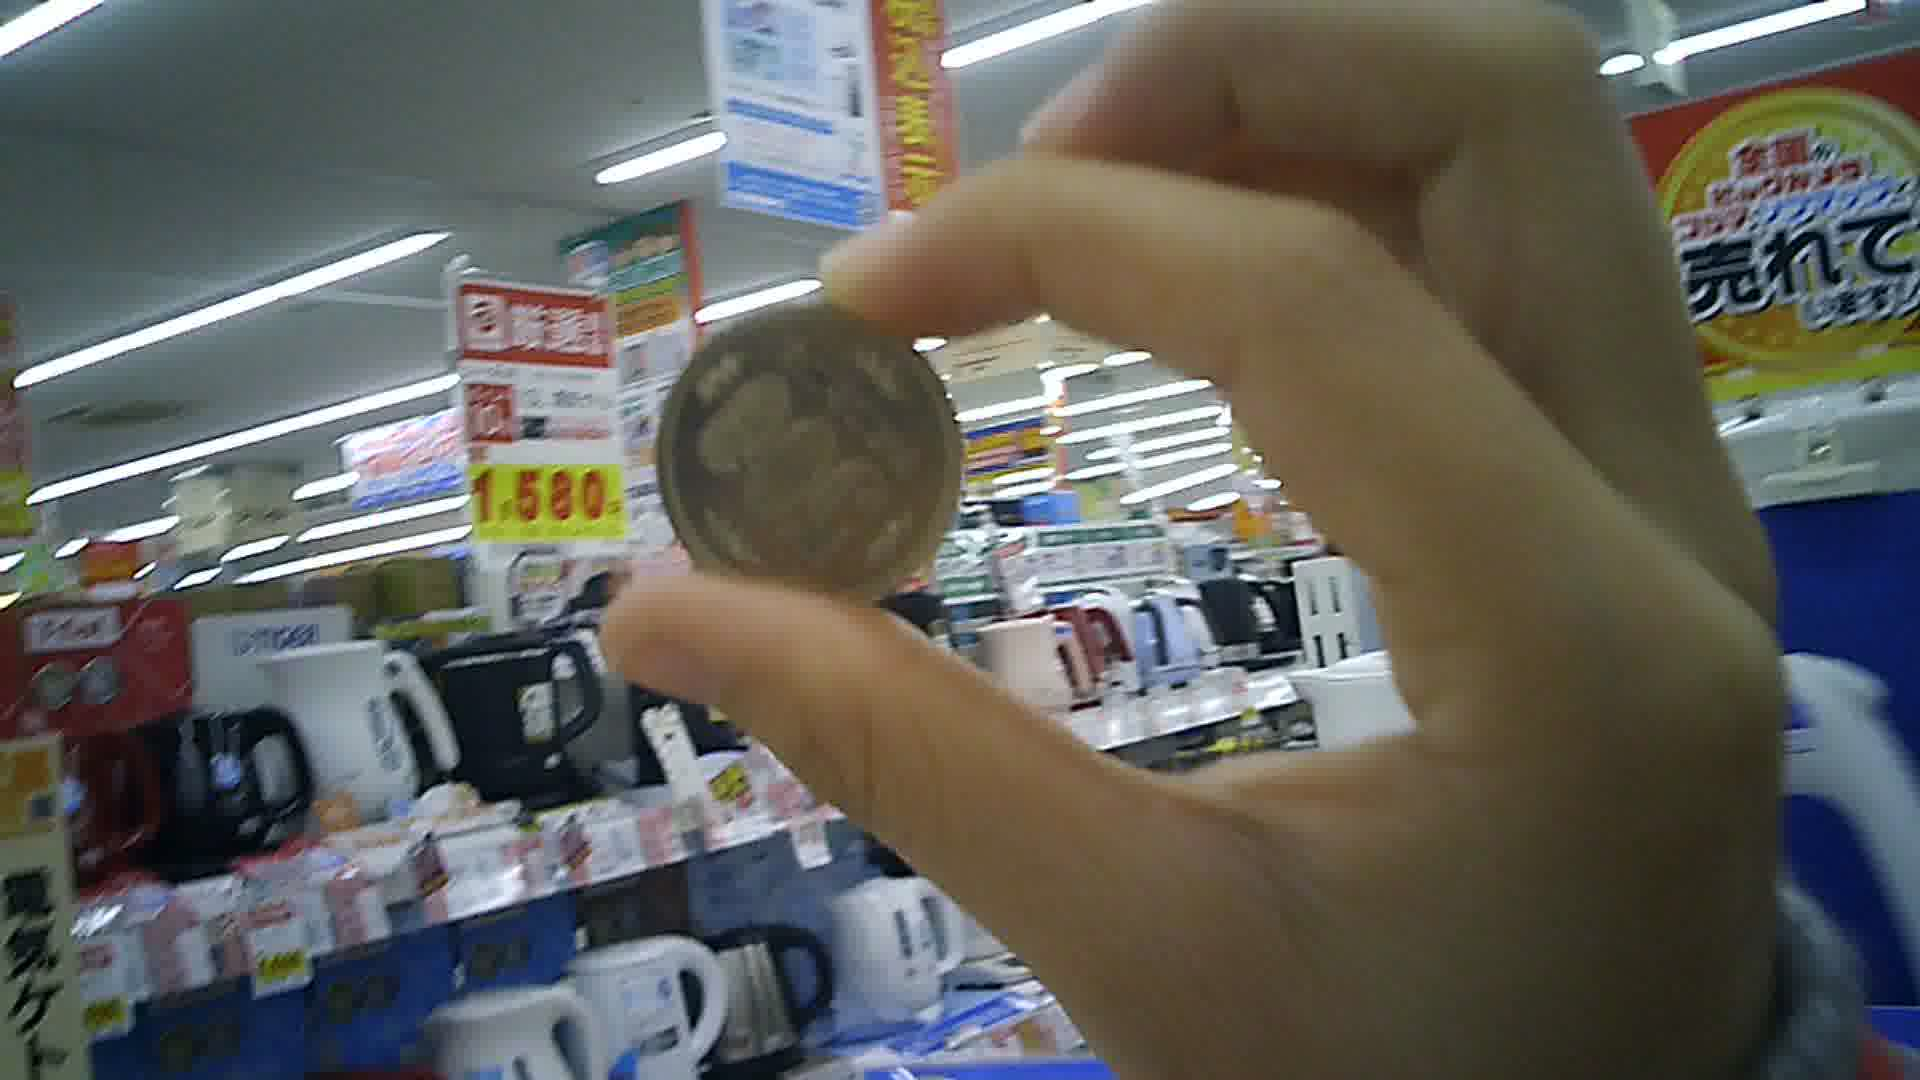500 Yen: (665, 301, 975, 618)
